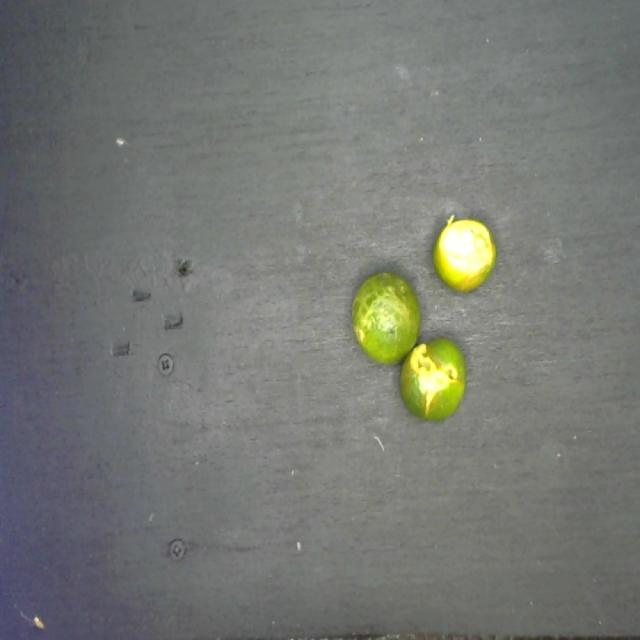biodegradable: (344, 212, 500, 426)
